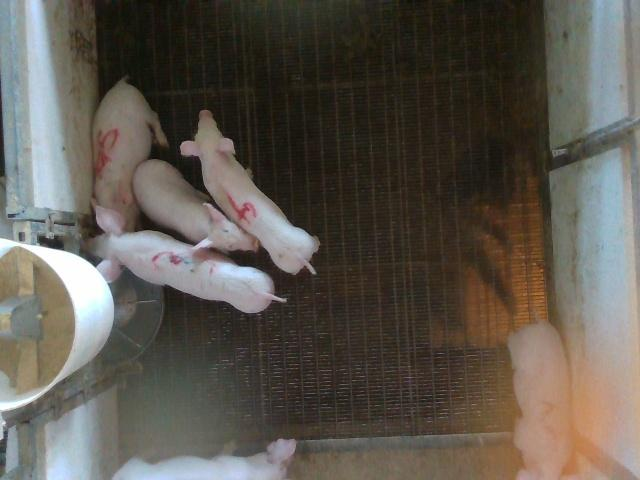pig-1: (112, 439, 296, 479)
pig-2: (509, 321, 574, 479)
pig-3: (90, 205, 285, 312)
pig-4: (180, 110, 319, 274)
pig-5: (94, 78, 169, 231)
